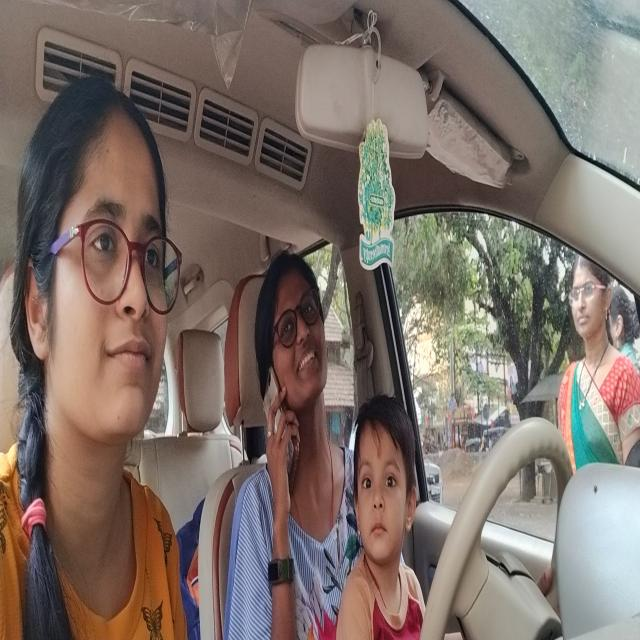child: (350, 388, 420, 566)
mobile: (260, 365, 295, 478)
person: (11, 74, 183, 469), (254, 240, 336, 438)
